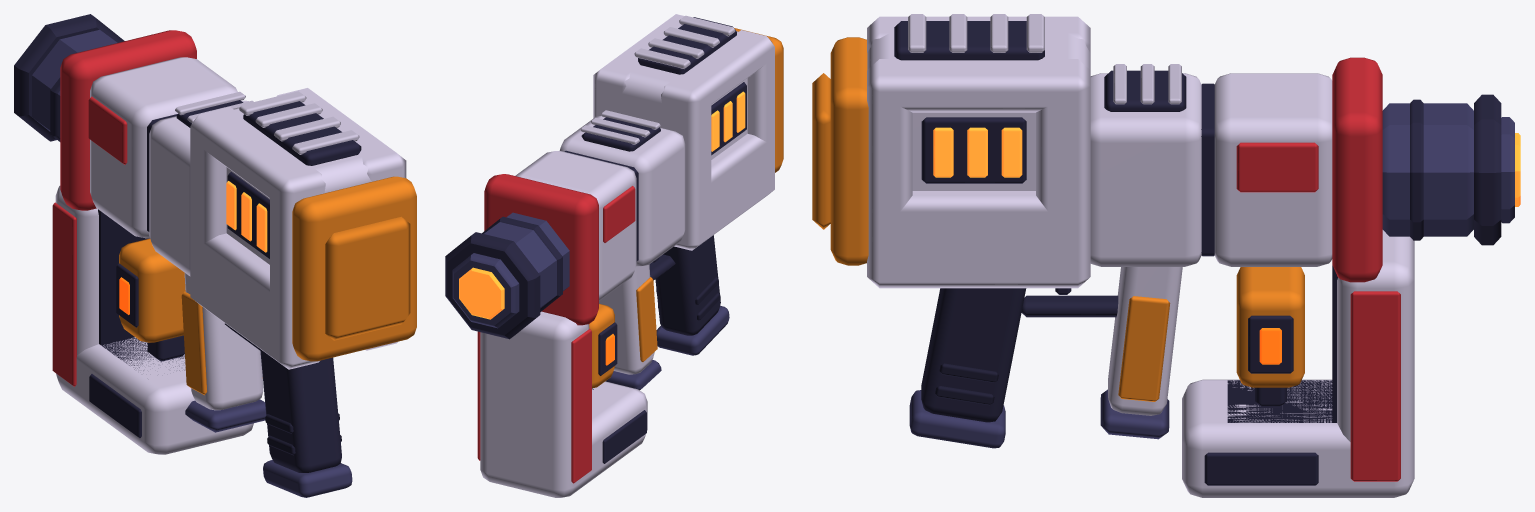
File: heavy_gun.glb
3 renders of one model, left to right at view 1: azimuth 30°, elevation 25°; view 2: azimuth 150°, elevation 25°; view 3: azimuth 270°, elevation 25°, orthographic. The views are drawn at different scales.
Visible parts, largest first — view 1: item.heavy_gun.body, part.mag, part.barrels; view 2: item.heavy_gun.body, part.barrels, part.mag; view 3: item.heavy_gun.body, part.barrels, part.mag.
Boxes of the visible parts, <box> form: item.heavy_gun.body: <box>52,30,416,497</box>; part.mag: <box>116,238,185,361</box>; part.barrels: <box>14,14,124,141</box>; item.heavy_gun.body: <box>477,14,783,497</box>; part.barrels: <box>445,212,569,339</box>; part.mag: <box>589,303,617,388</box>; item.heavy_gun.body: <box>812,14,1414,497</box>; part.barrels: <box>1382,94,1520,245</box>; part.mag: <box>1236,267,1304,407</box>.
Size of the model in its own units: 0.225 by 0.675 by 0.9703.
